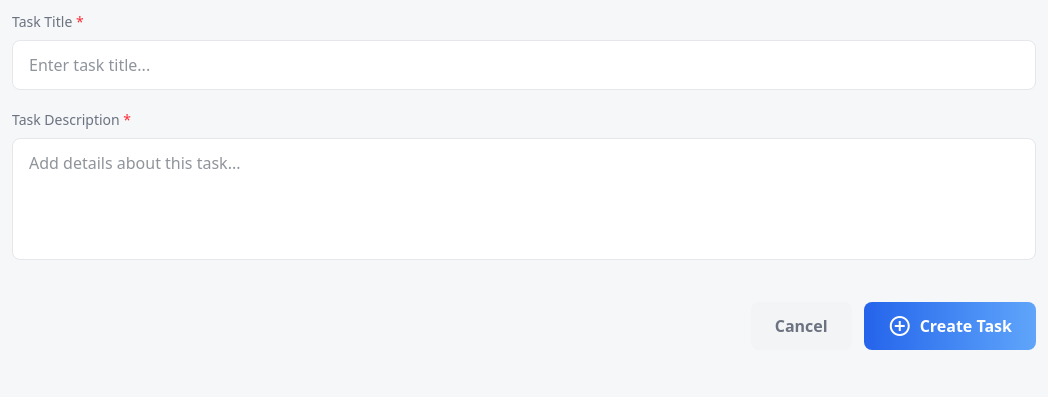
Test: TaskForm Component › should show description error when only title is provided
Type "My Task" into the field with placeholder "Enter task title...". click: {"x": 524, "y": 65}
box: [12,40,1036,90]
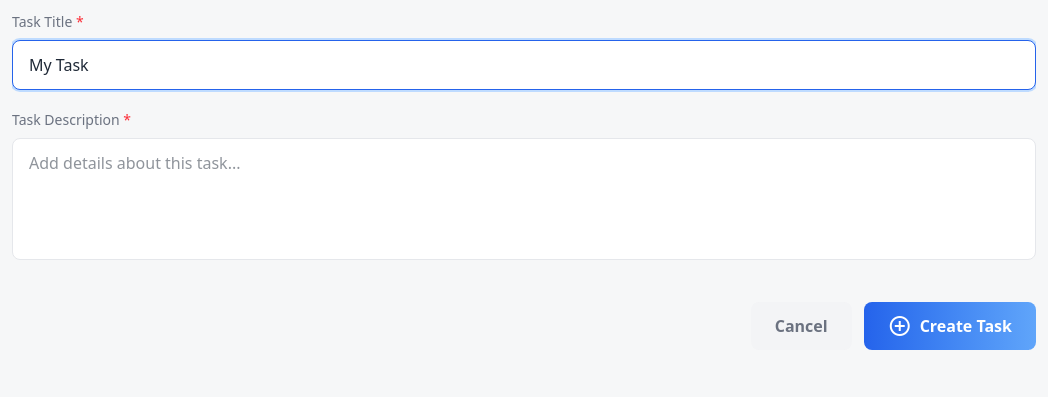
Click the button "Create Task". click: {"x": 950, "y": 326}
box: [864,302,1036,350]
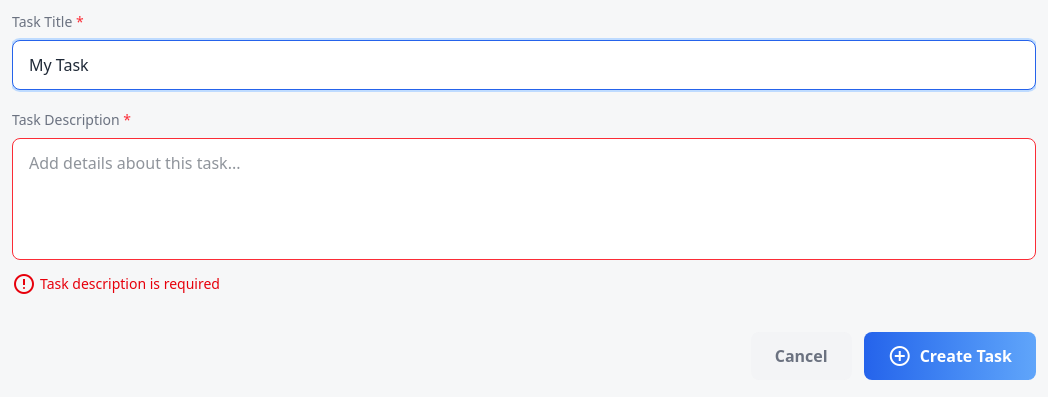
Now the text "Task description is required" is shown, box [12,270,220,298]
